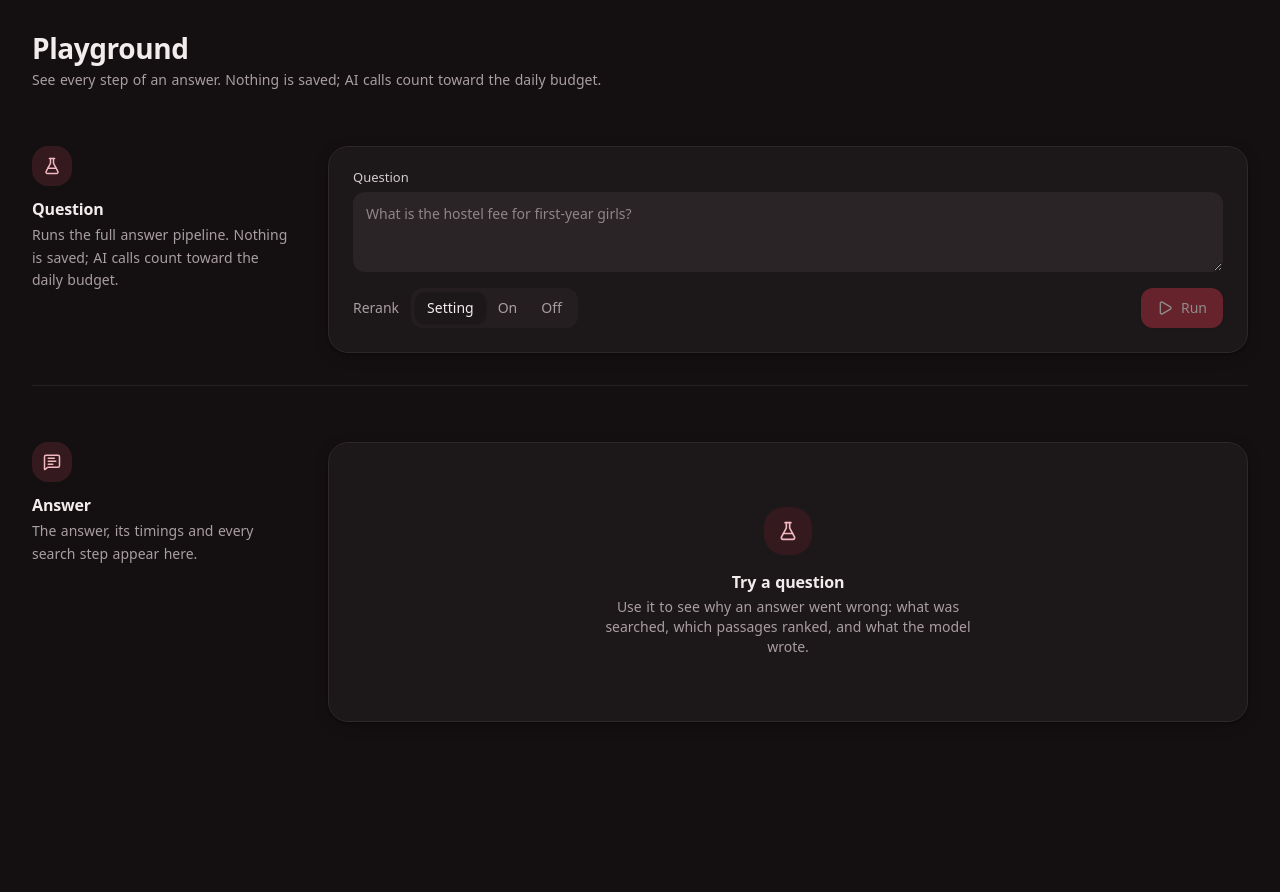
Scenario: PlaygroundPage › runs a question and shows the answer and how the question was understood
Type "What is the hostel fee?" into the text box labelled "Question" at {"x": 788, "y": 232}, box [353,192,1223,272]
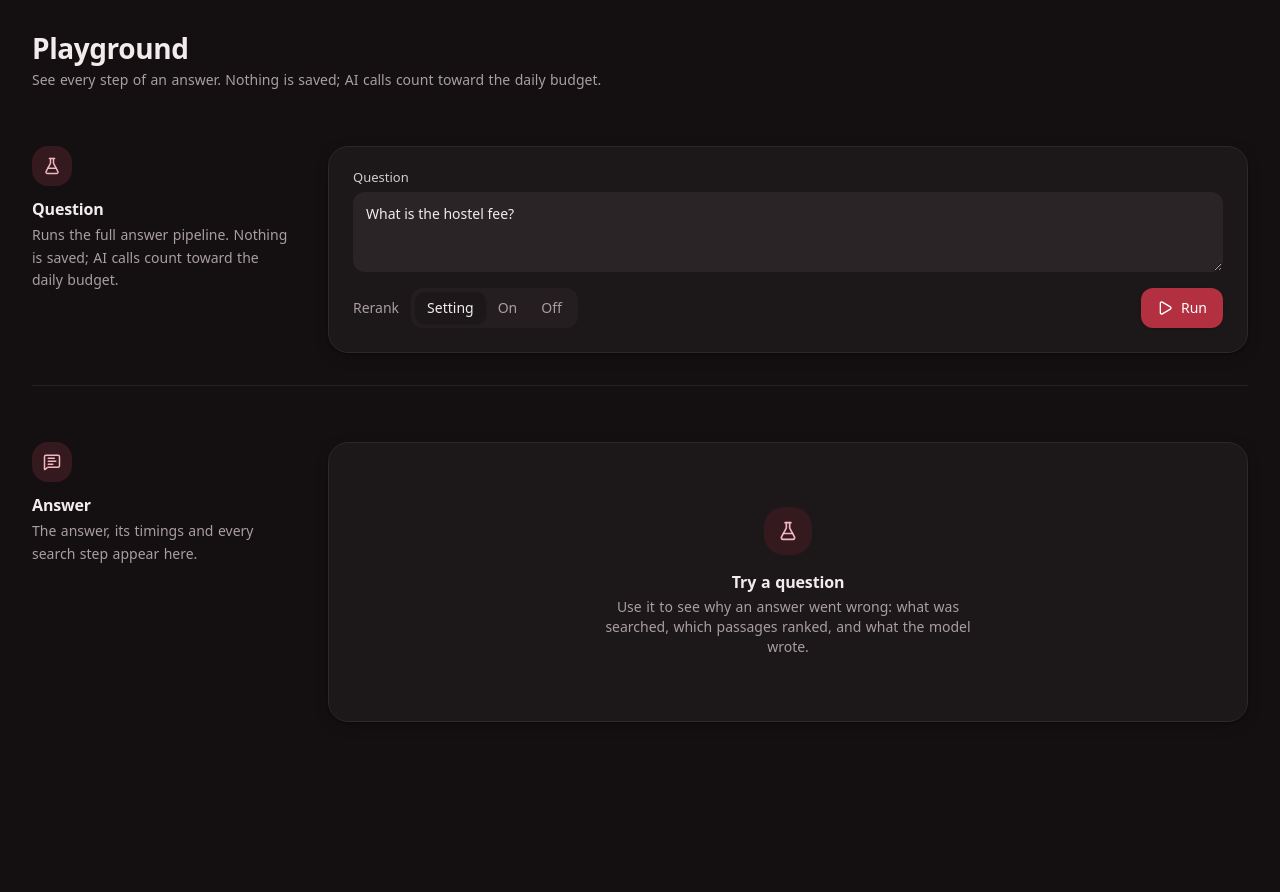
Click the button "Run" at {"x": 1182, "y": 308}, box [1141,288,1223,328]
(page scrolled)
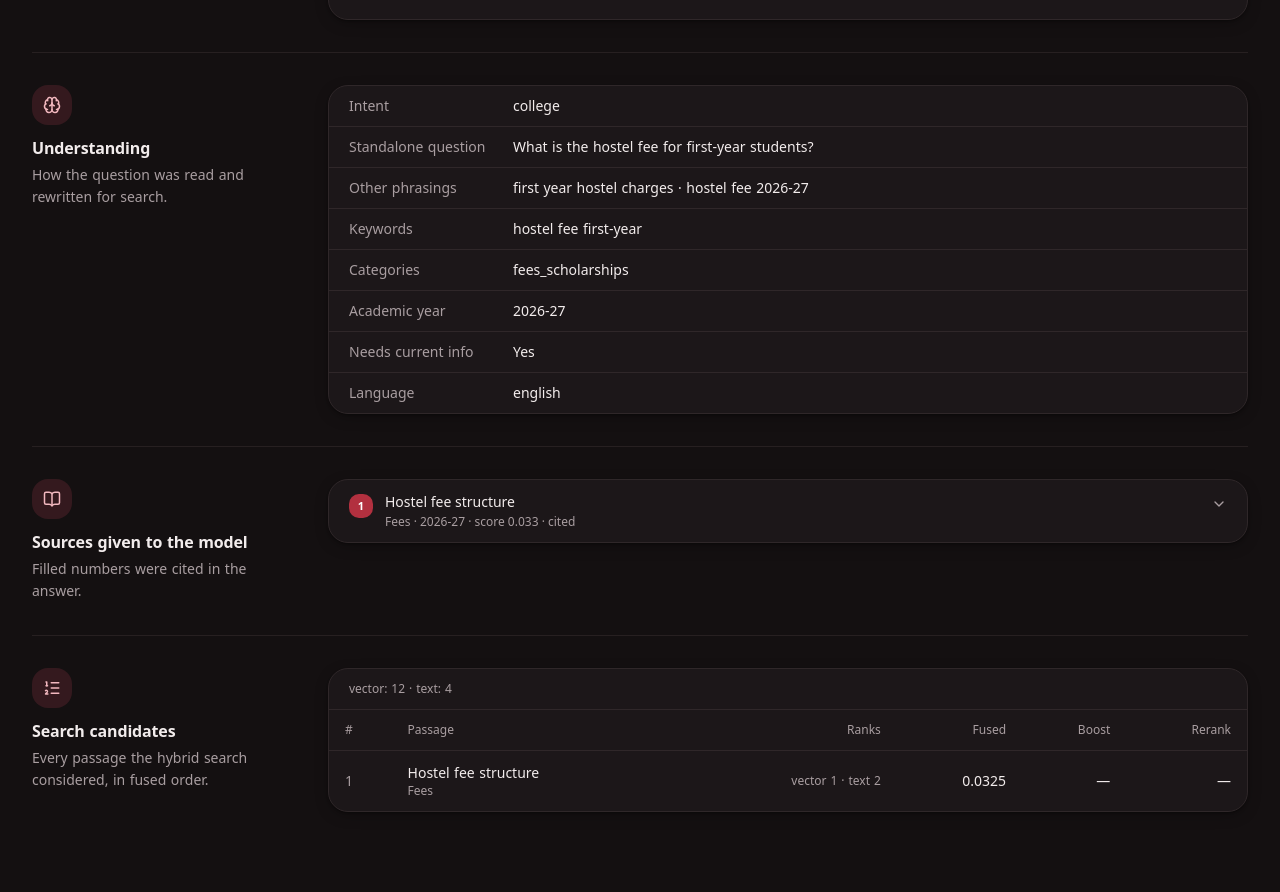
expect the text "hostel fee first-year" is shown: met, box [513,219,642,238]
expect the text "first year hostel charges · hostel fee 2026-27" is shown: met, box [513,178,809,197]
expect the text "fees_scholarships" is shown: met, box [513,260,629,279]
